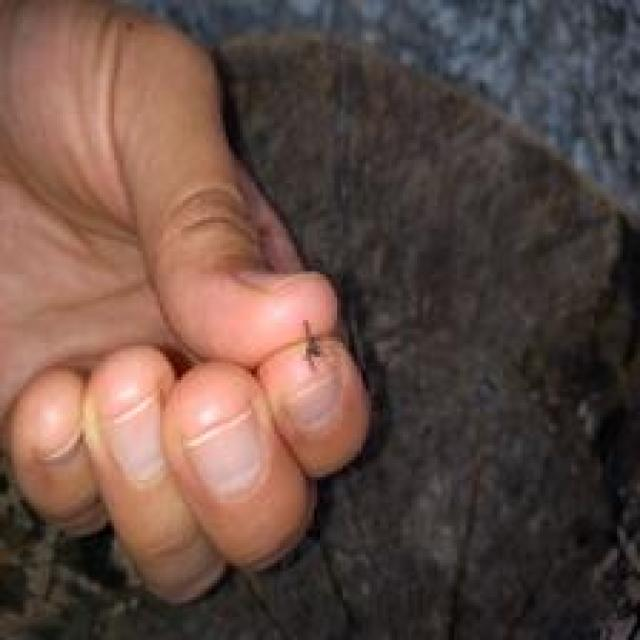Aedes albopictus: (300, 319, 323, 370)
